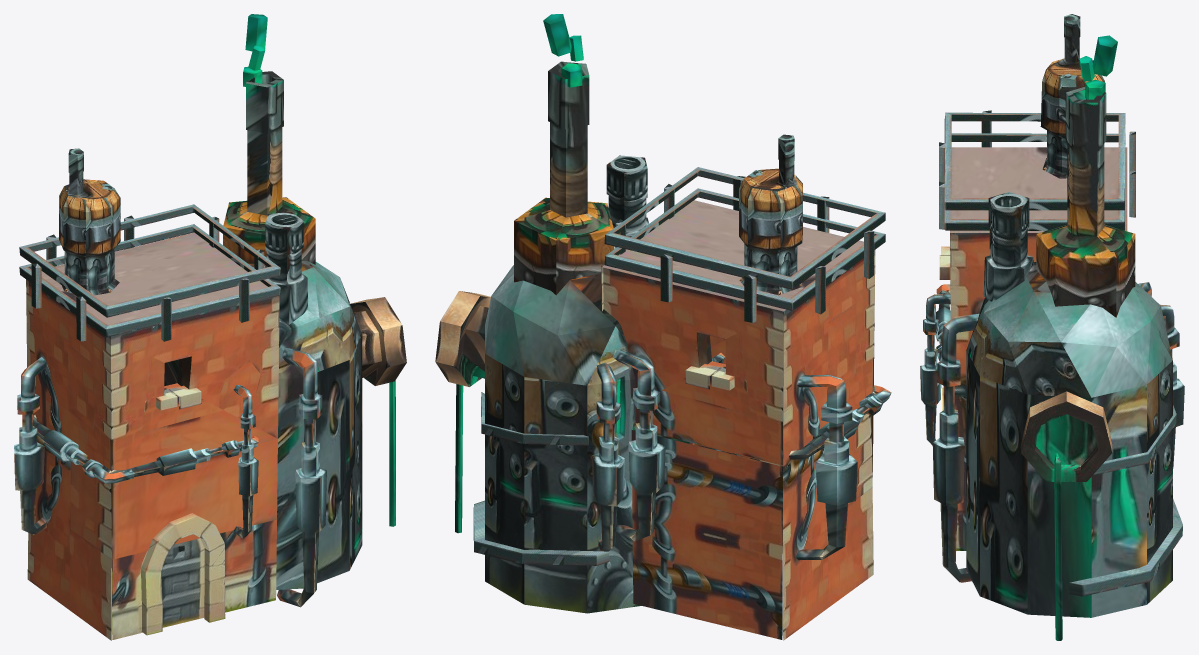
File: alchemists.glb
3 renders of one model, left to right at view 1: azimuth 30°, elevation 25°; view 2: azimuth 150°, elevation 25°; view 3: azimuth 270°, elevation 25°, orthographic. The views are drawn at different scales.
Parts seen in each view (by area): view 1: Alchemist; view 2: Alchemist; view 3: Alchemist.
Part boxes in pixels (<box>): Alchemist: <box>14,14,406,640</box>; Alchemist: <box>435,14,891,640</box>; Alchemist: <box>920,14,1184,640</box>.
Bounding box in the file's own units: 2.33 × 3.16 × 1.36.
Materials: 1 (1 with a texture image).
